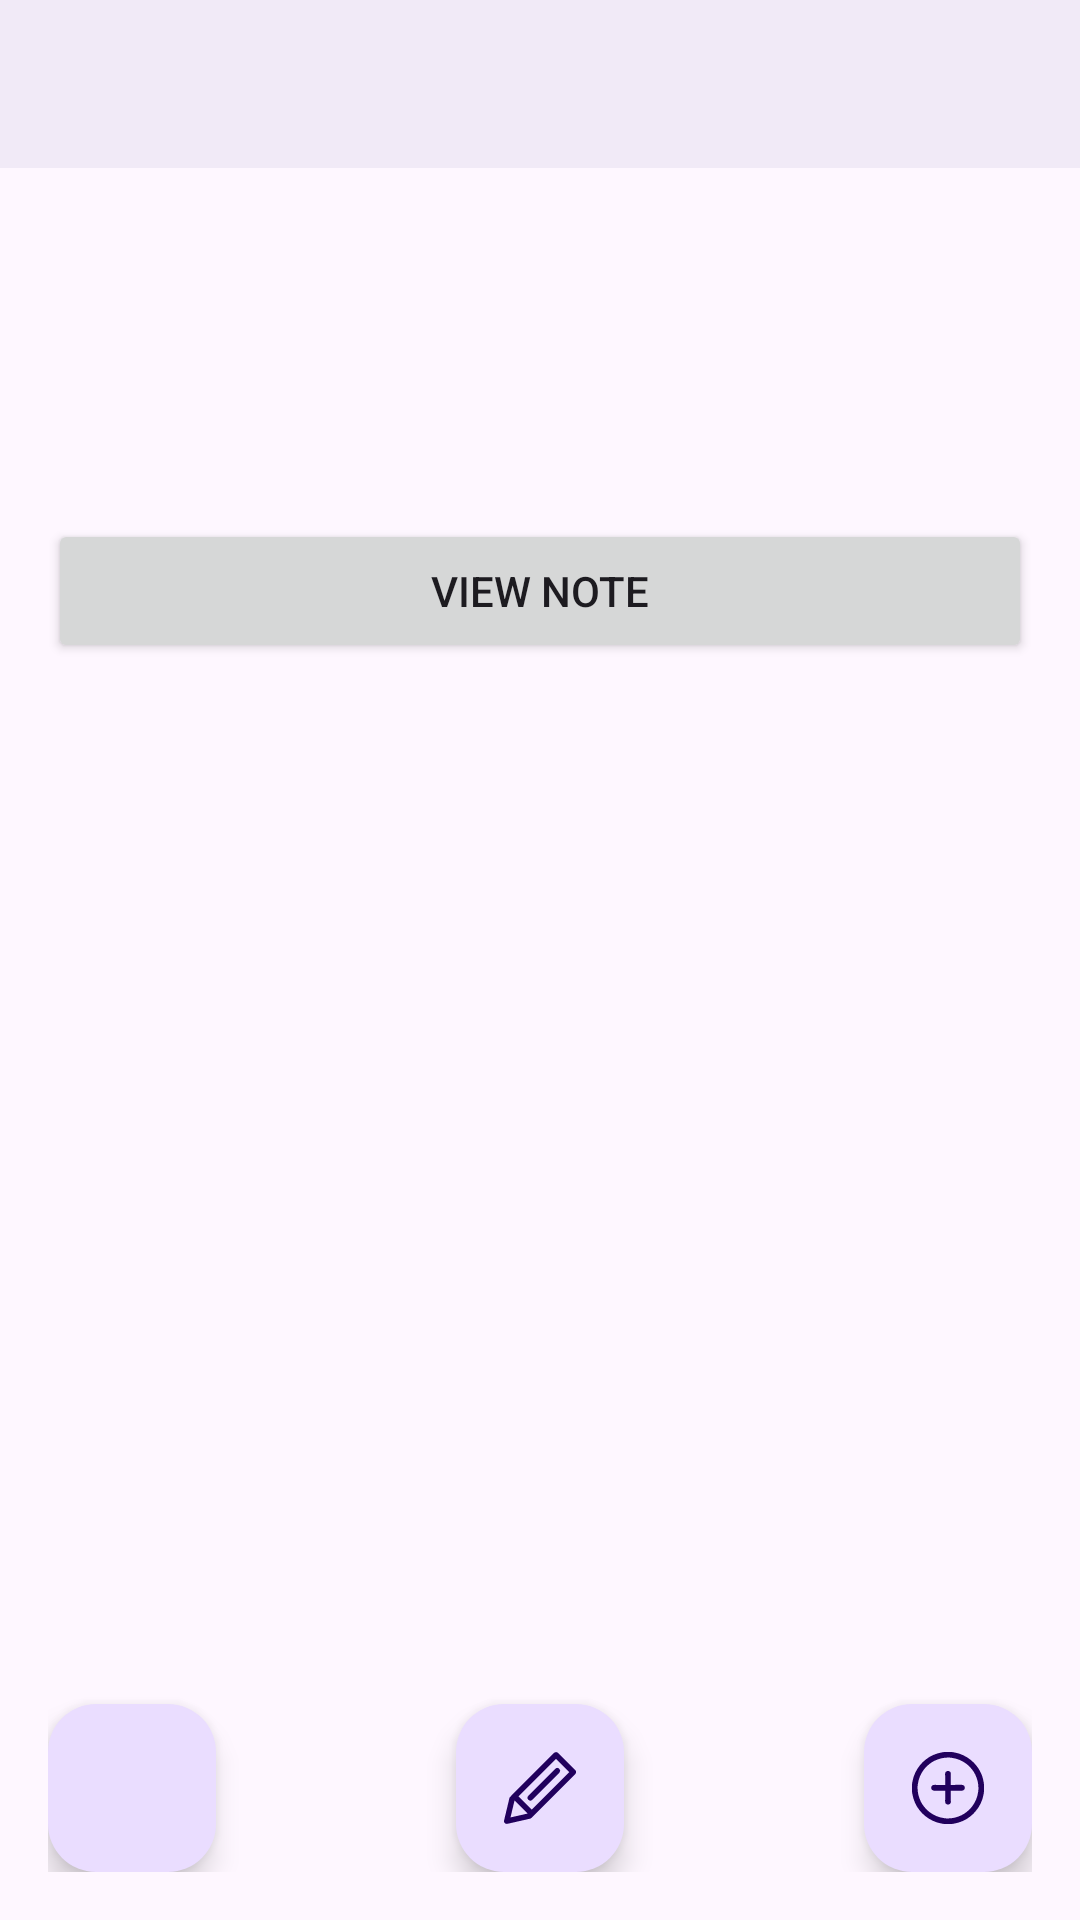

Icon click points for this 1080 x 1920 phone screenshot, format (x=x, y=y):
Add Assessment: (x=948, y=1788)
edit: (x=540, y=1788)
